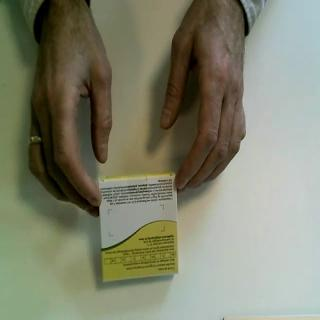buprefarm5ug_hour: (96, 169, 182, 285)
